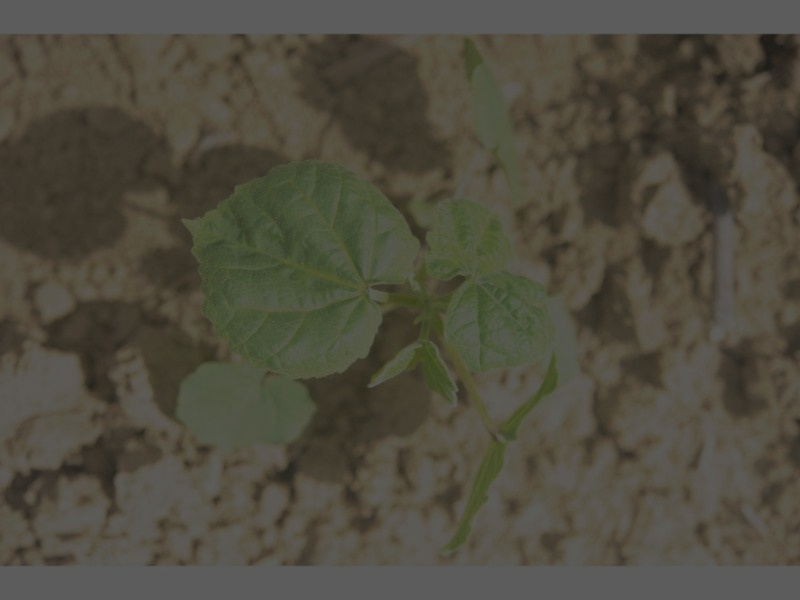velvet: (176, 36, 574, 550)
